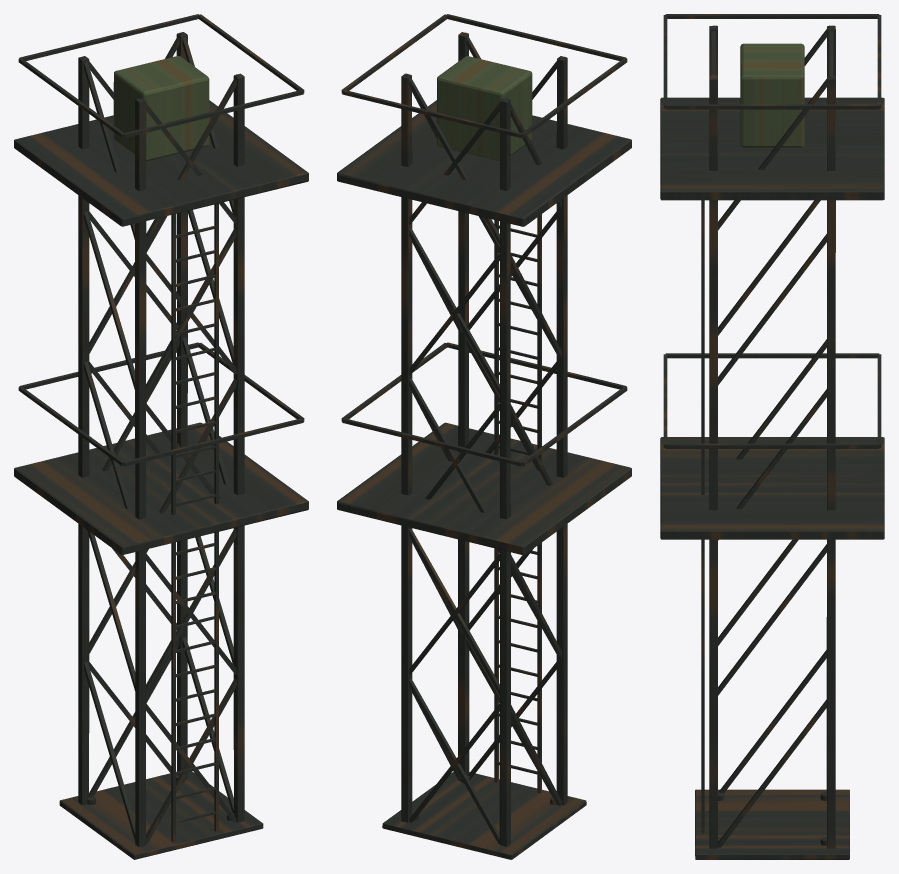
Rendered from service-mast-lod.obj.
3 views of the same model, side by side, from view 1: azimuth 30°, elevation 25°; view 2: azimuth 150°, elevation 25°; view 3: azimuth 270°, elevation 25° (orthographic). The views are drawn at different scales.
Parts seen in each view (by area): view 1: service-mast.001; view 2: service-mast.001; view 3: service-mast.001.
Boxes of the visible parts, bbox=[...] form: service-mast.001: bbox=[14, 14, 308, 859]; service-mast.001: bbox=[337, 14, 631, 859]; service-mast.001: bbox=[660, 14, 884, 859].
Bounding box in the file's own units: 2.09 × 8.02 × 2.1.
1 material, 1 textured.
